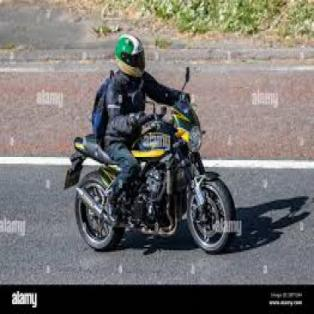Motocicleta: (65, 107, 242, 260)
